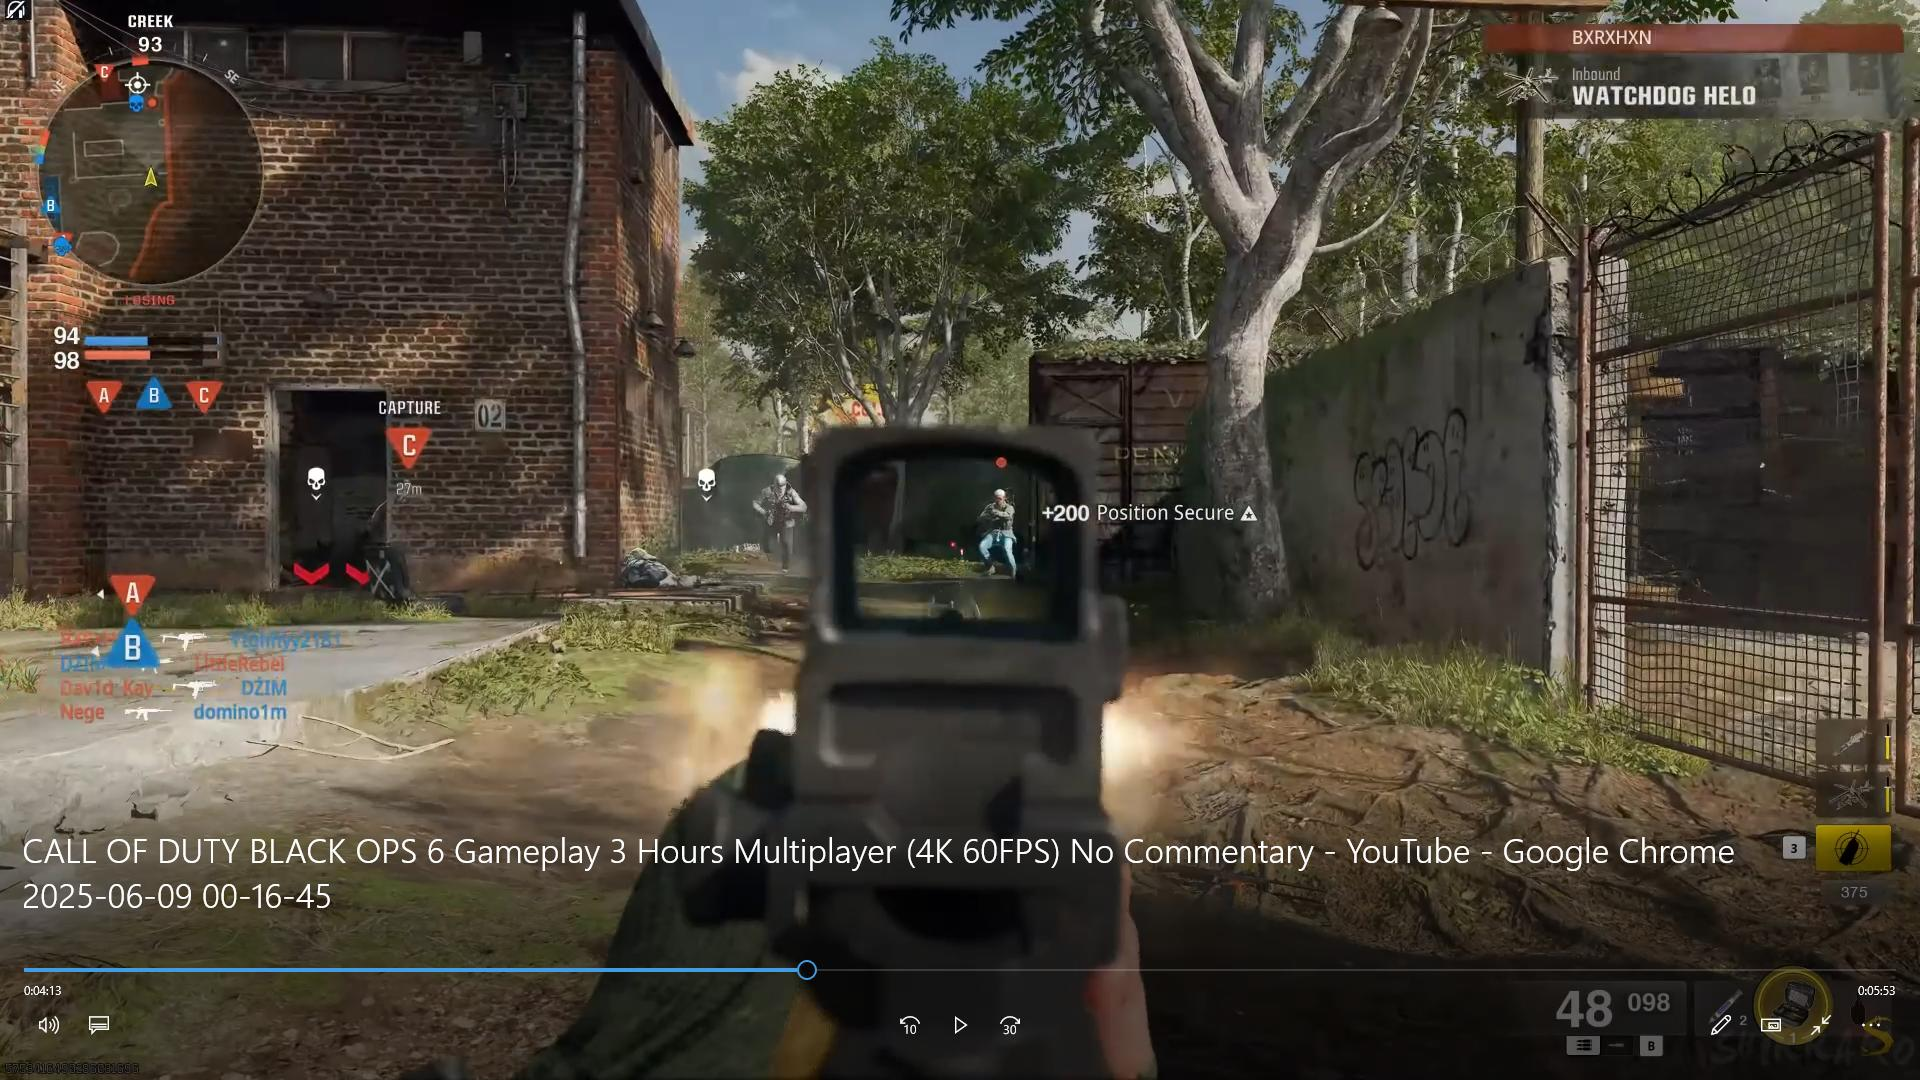Enemy: (753, 475, 806, 563), (976, 483, 1021, 578)
